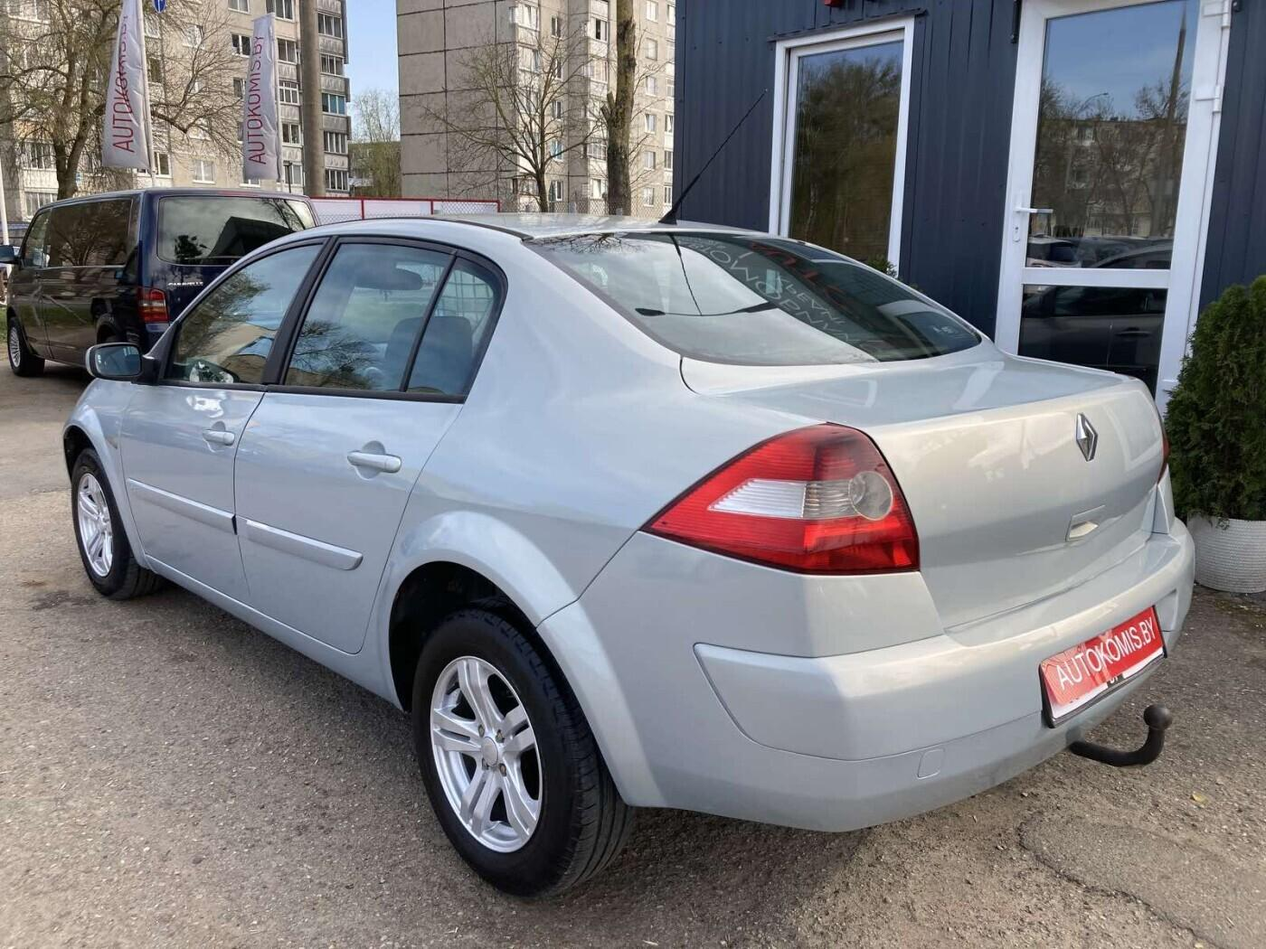Megane_2002-2006: (50, 207, 1199, 896)
